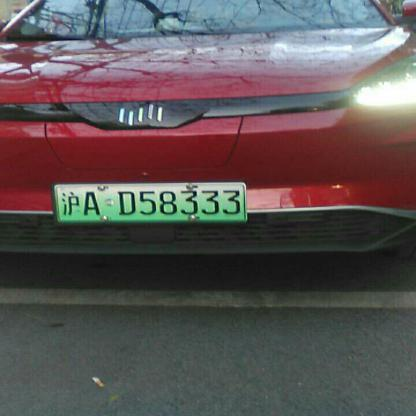lp: (57, 185, 60, 219)
